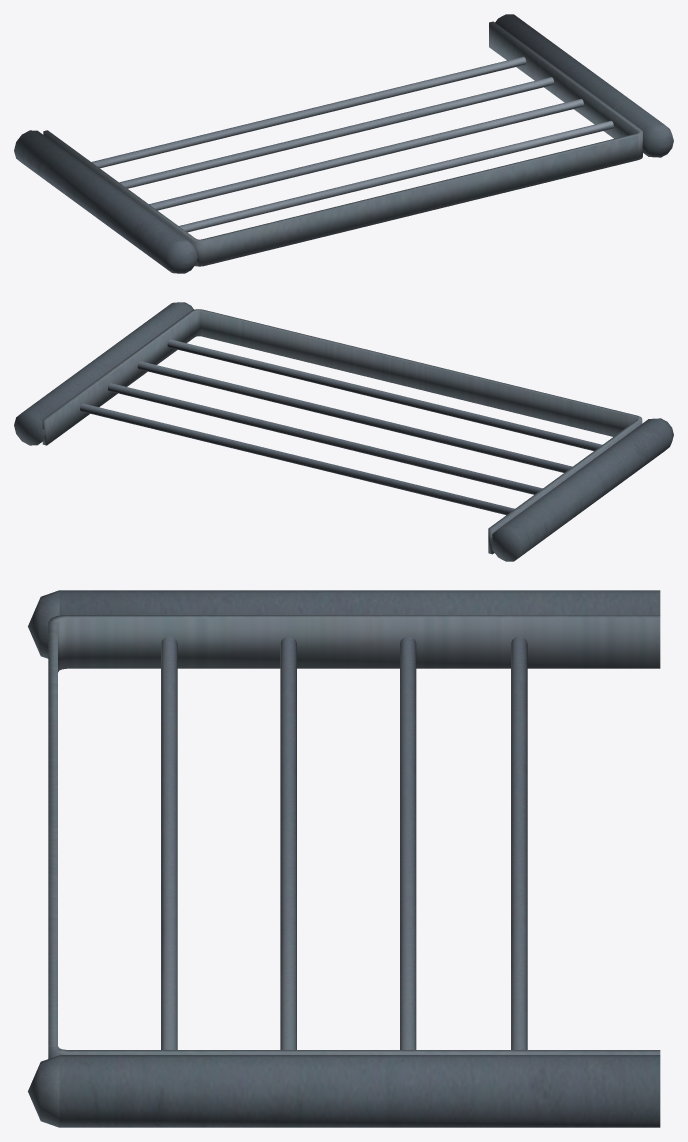
The model's file is RTB1601220721_0434L_01_normalization.obj.
3 views of the same model, one above another, from view 1: azimuth 30°, elevation 25°; view 2: azimuth 150°, elevation 25°; view 3: azimuth 270°, elevation 25° (orthographic). The views are drawn at different scales.
Visible parts, largest first — view 1: RTC1601220721_0434S_01; view 2: RTC1601220721_0434S_01; view 3: RTC1601220721_0434S_01.
Boxes of the visible parts, x1,y1,x2,y2 form: RTC1601220721_0434S_01: (14,14,673,273); RTC1601220721_0434S_01: (14,302,673,561); RTC1601220721_0434S_01: (28,590,660,1127).
Bounding box in the file's own units: 0.879 × 0.0547 × 0.4737.
Materials: 1 (1 with a texture image).
